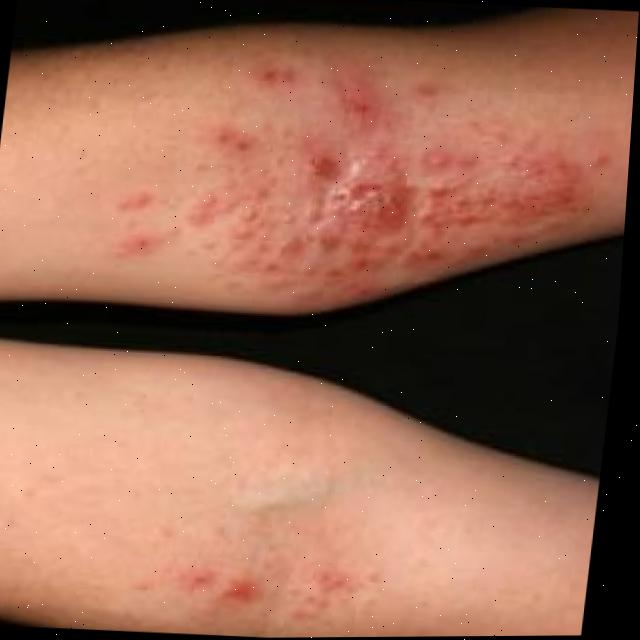Eczema: (155, 77, 590, 294), (187, 524, 383, 612)
